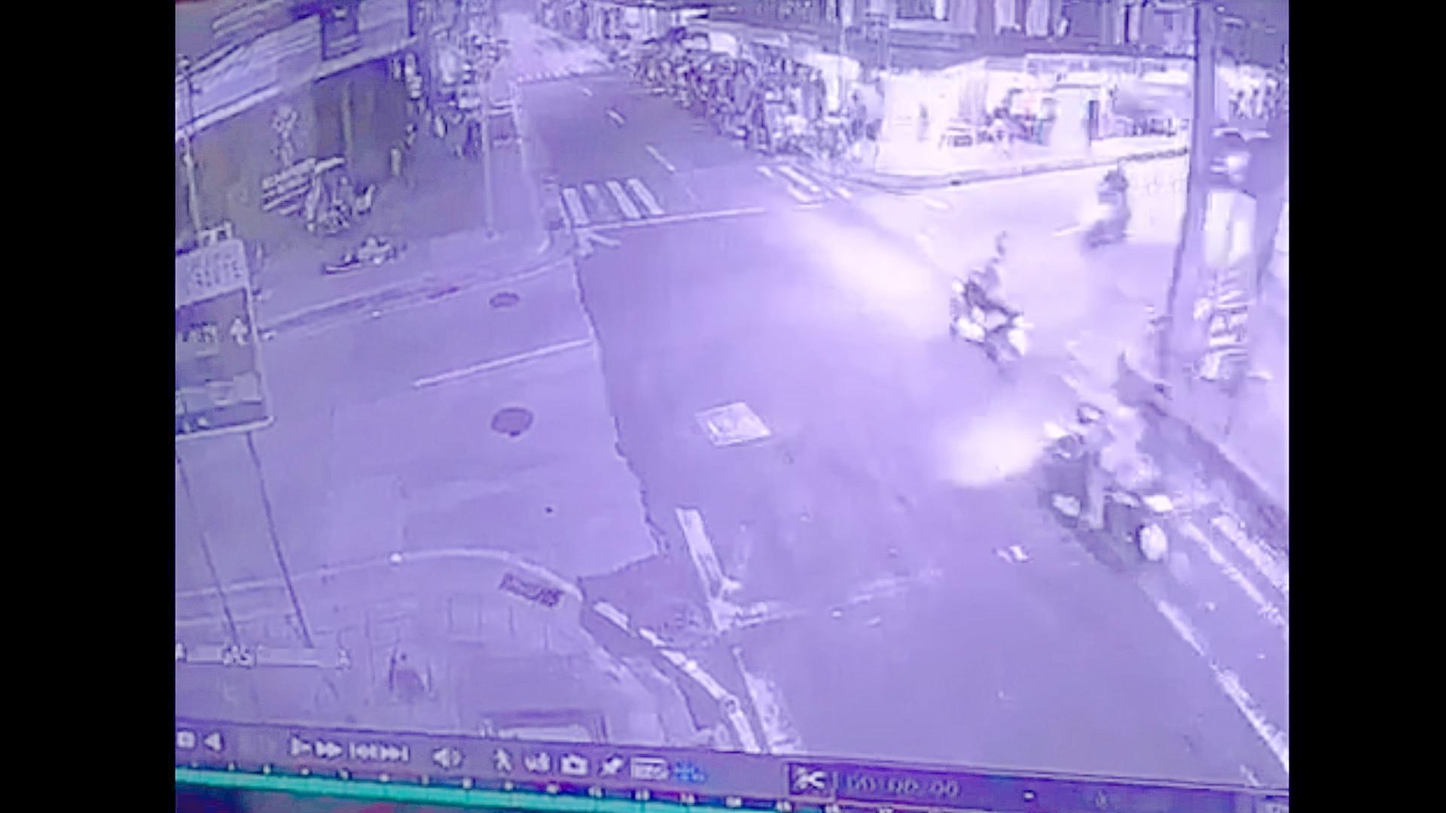Motor: (1036, 383, 1185, 567), (942, 249, 1036, 369), (1079, 158, 1139, 252)
